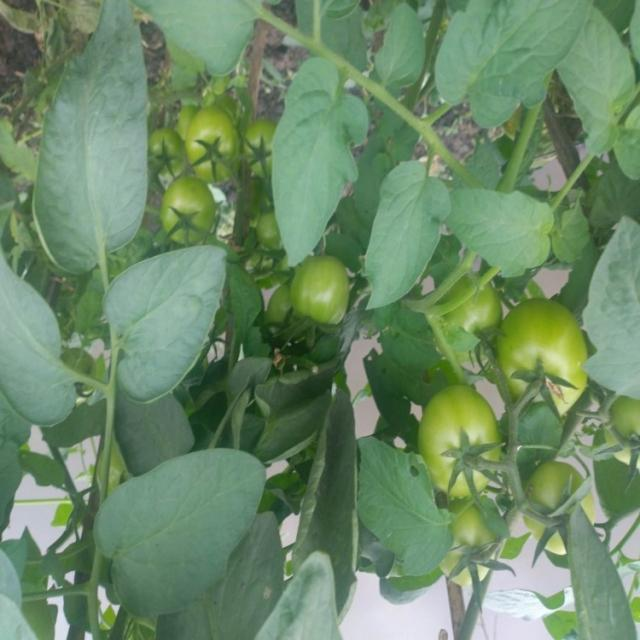tomato: (488, 294, 588, 419), (411, 394, 509, 495), (518, 459, 595, 560), (431, 503, 505, 588), (298, 258, 363, 340), (162, 167, 224, 248), (187, 107, 240, 185), (237, 121, 284, 181), (141, 124, 190, 173)
